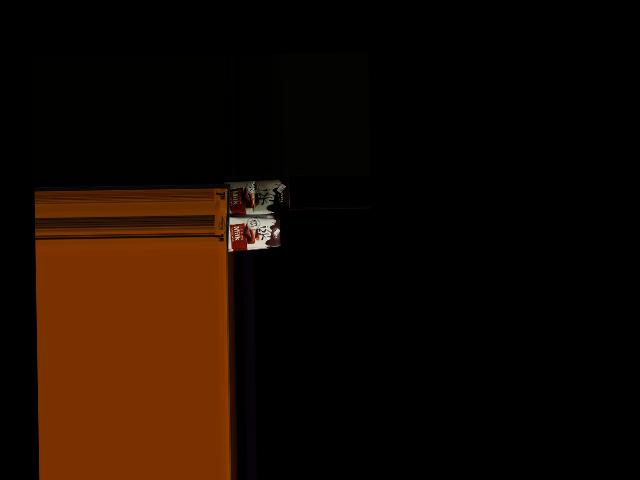chocolate: (221, 216, 282, 254)
